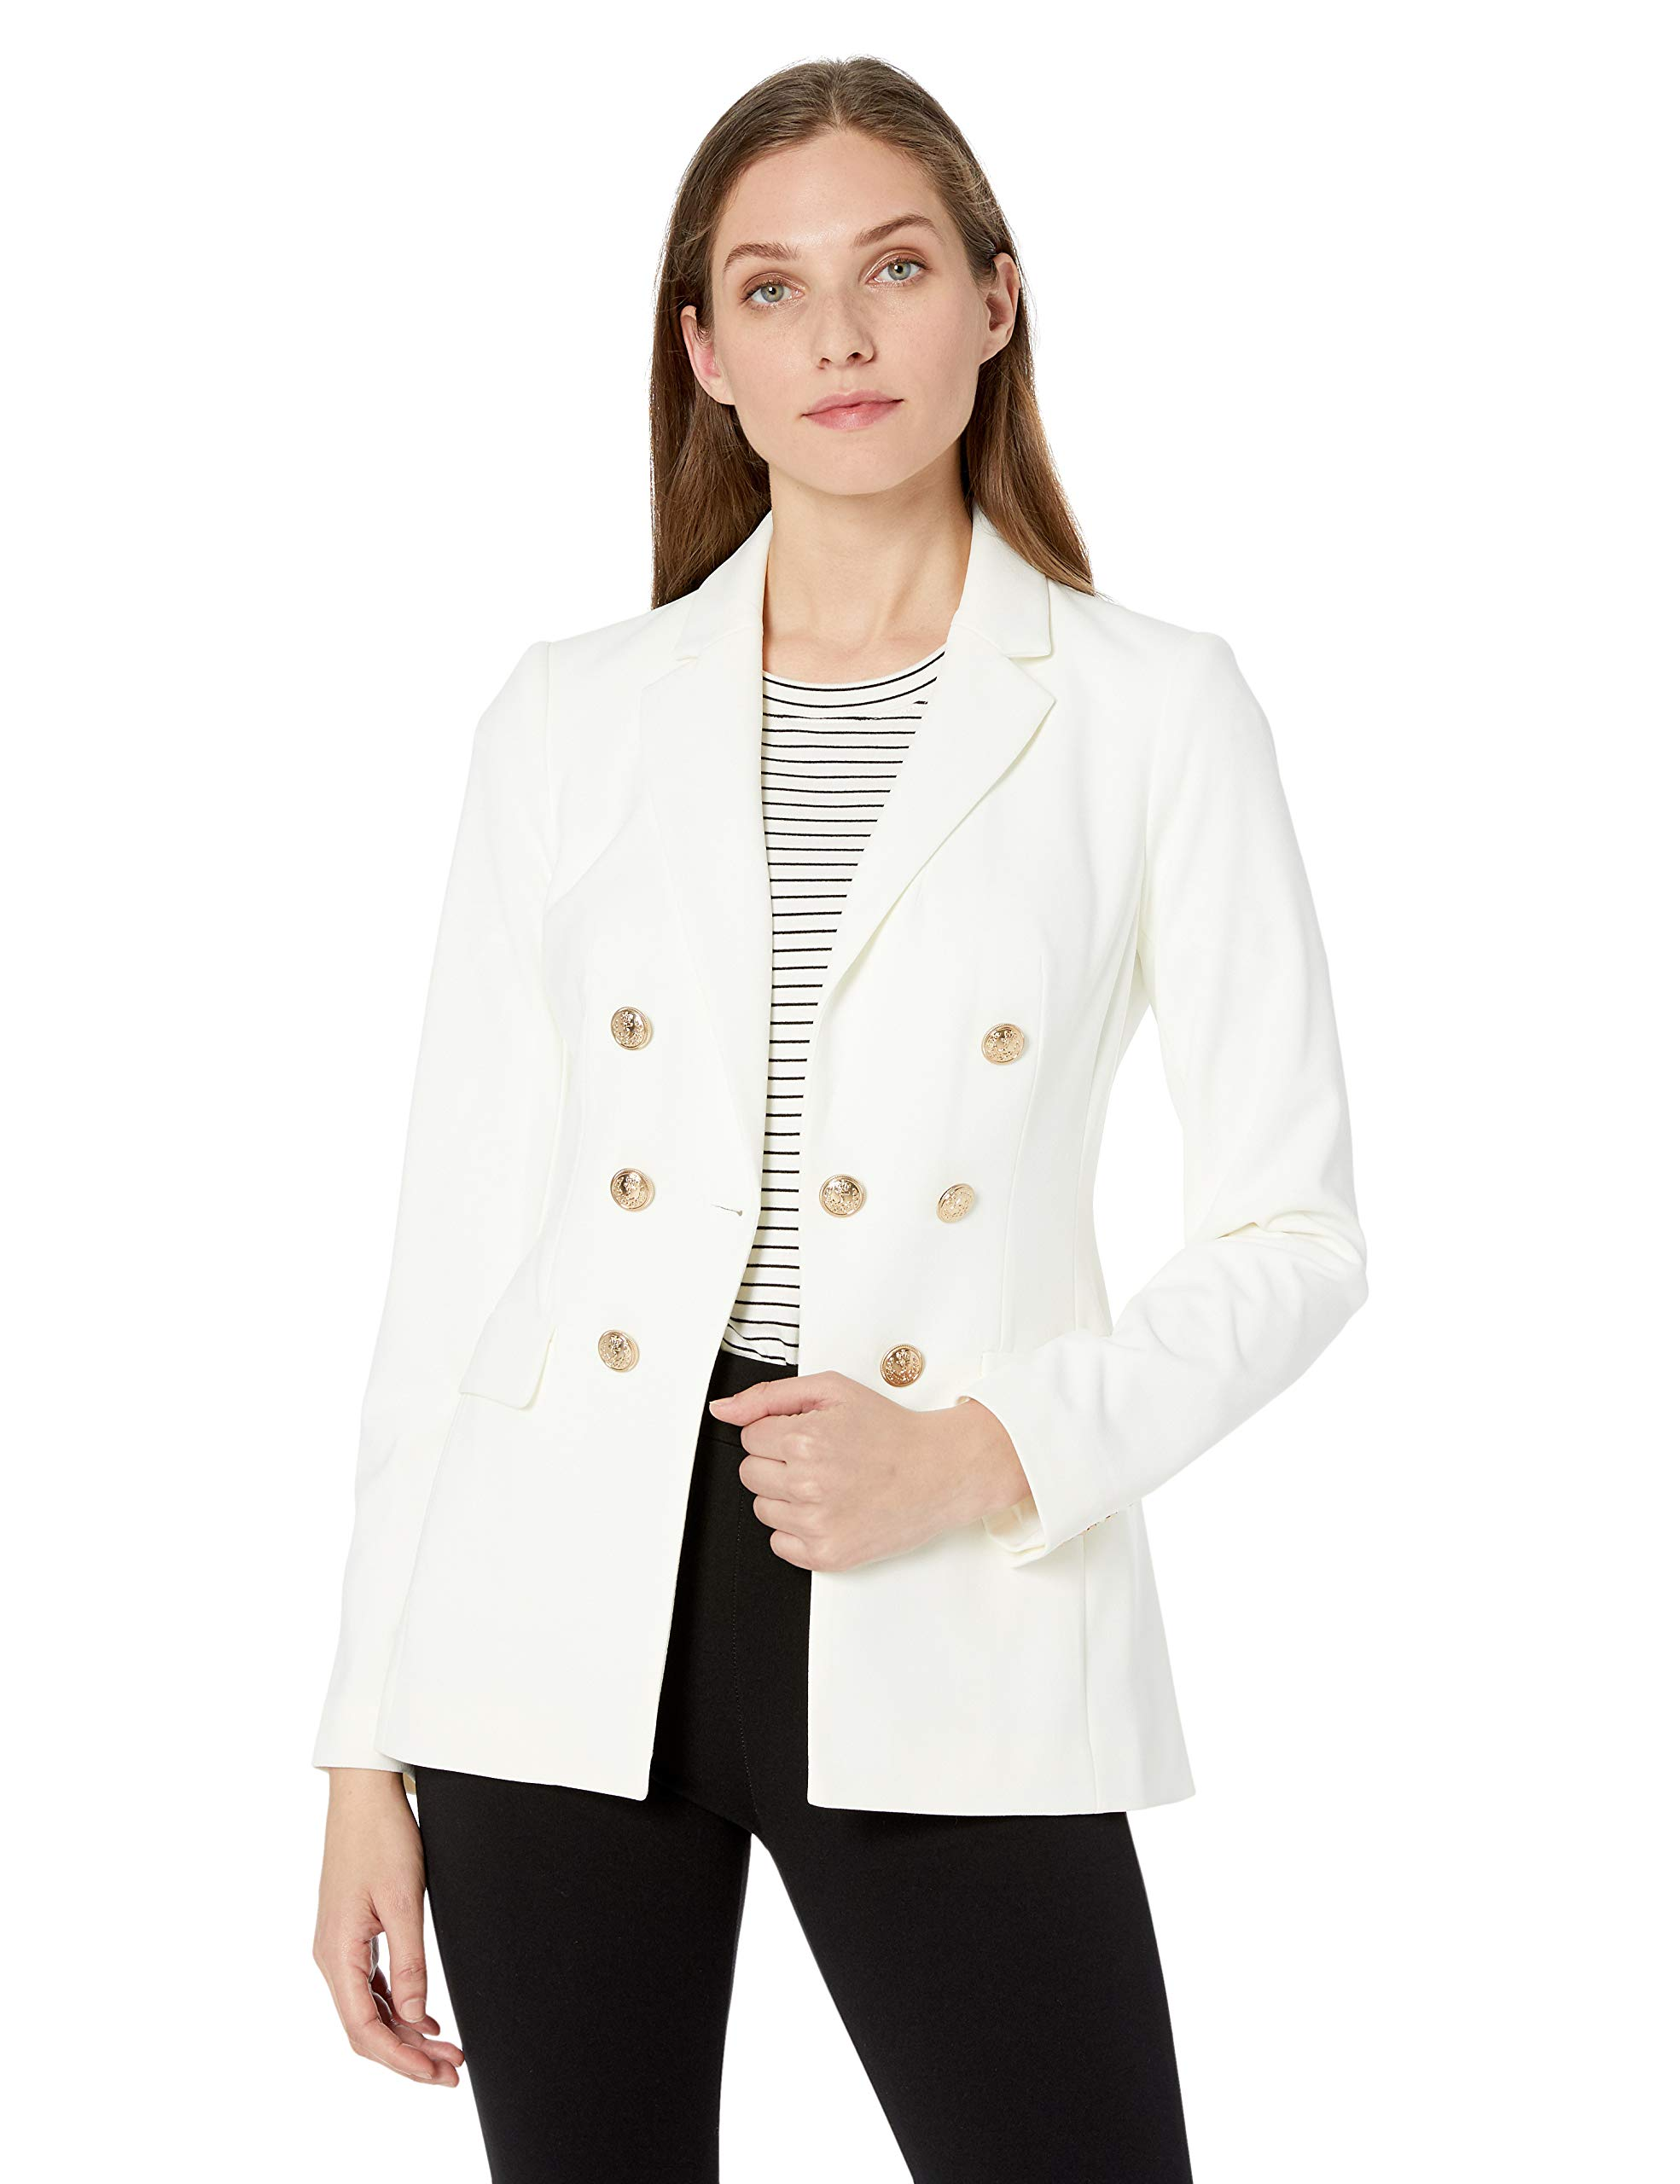F_W_suit jacket: (332, 595, 1373, 1704)
